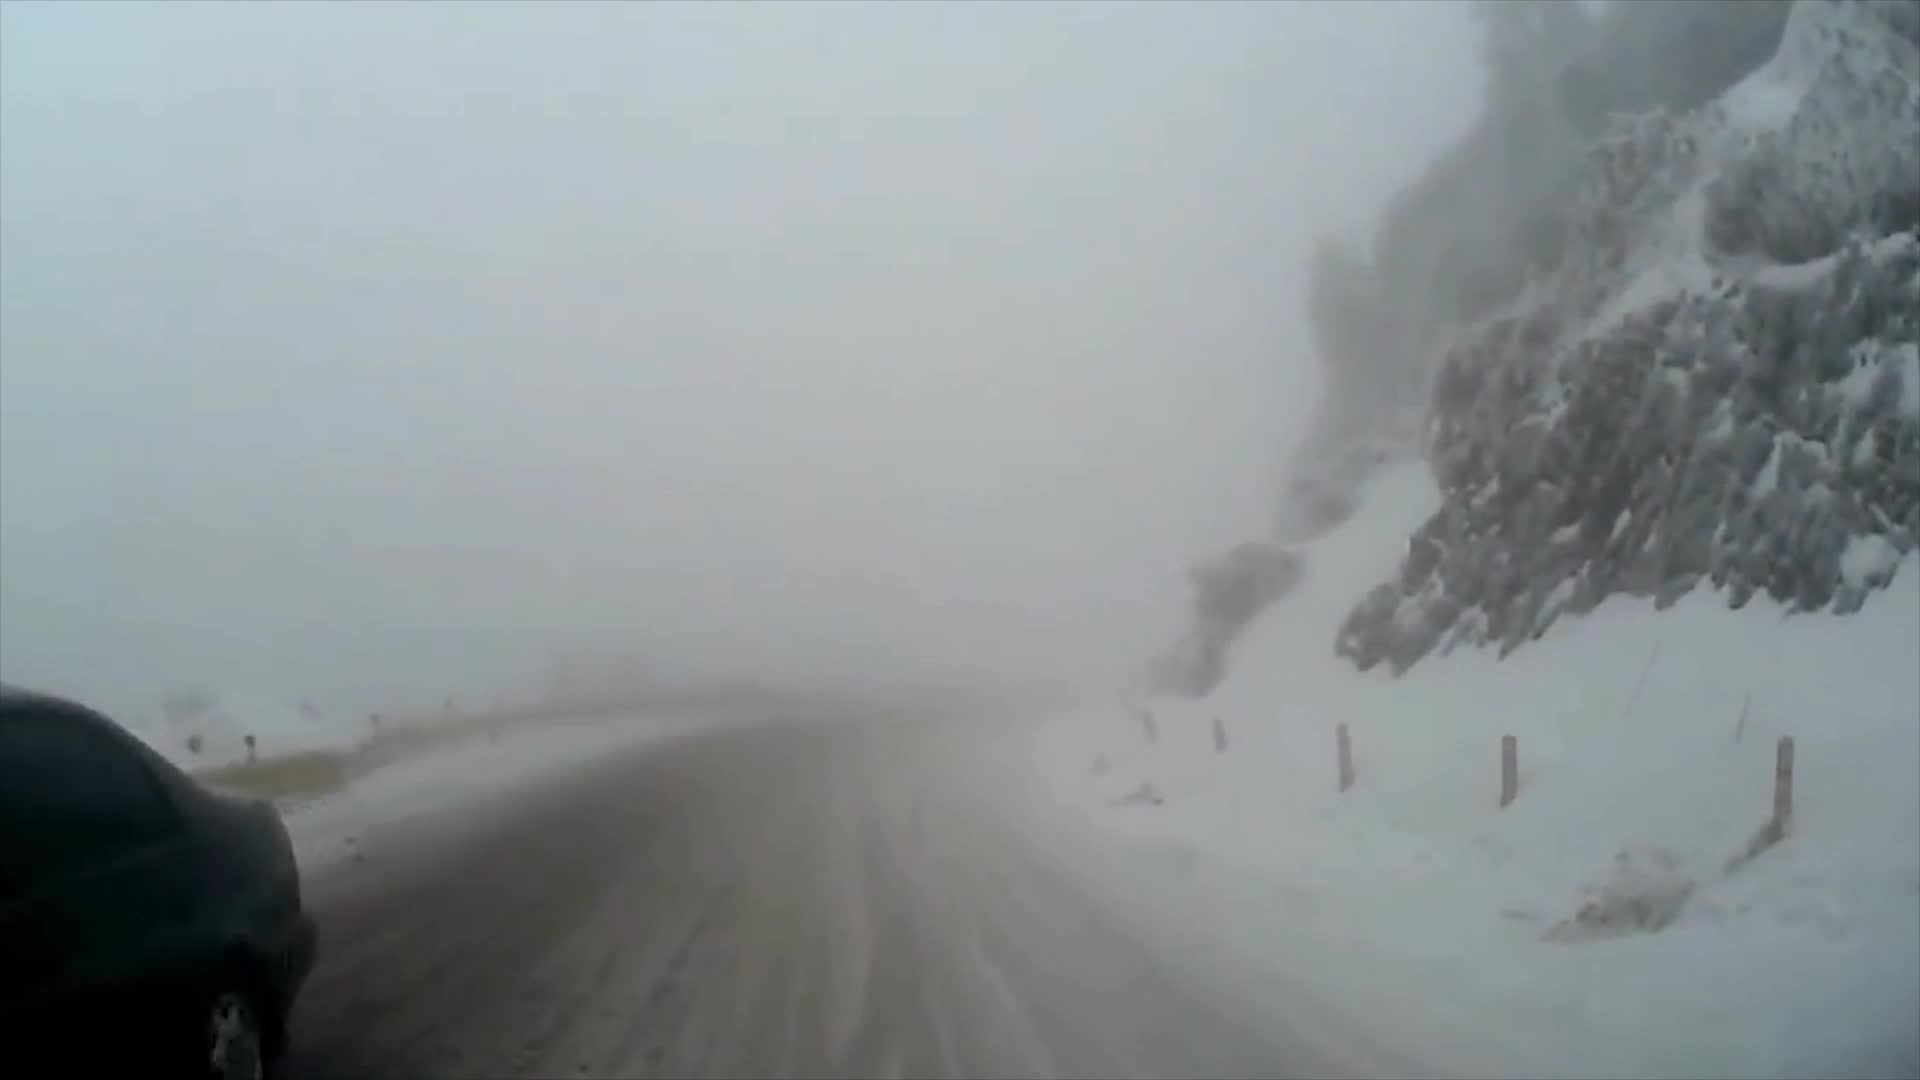vehicle: (0, 683, 320, 1080)
